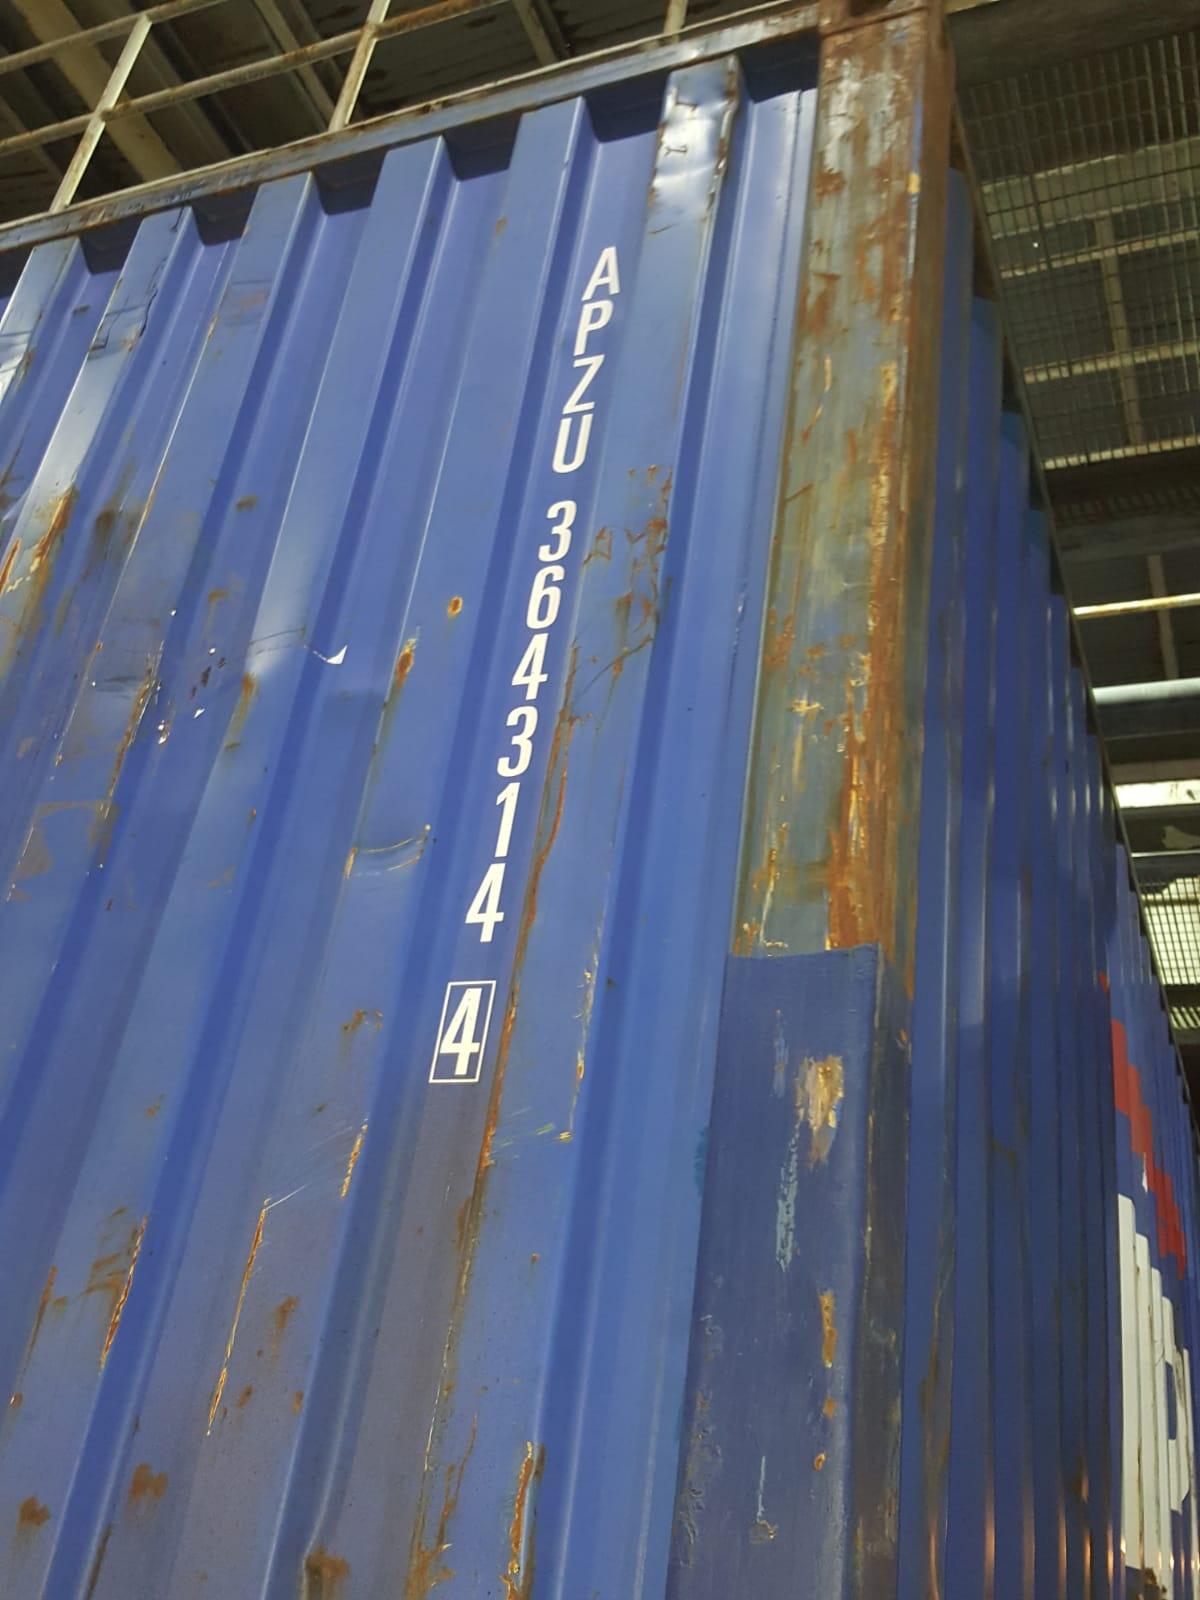front_side: (1, 23, 928, 1600)
left_side: (889, 66, 1200, 1600)
